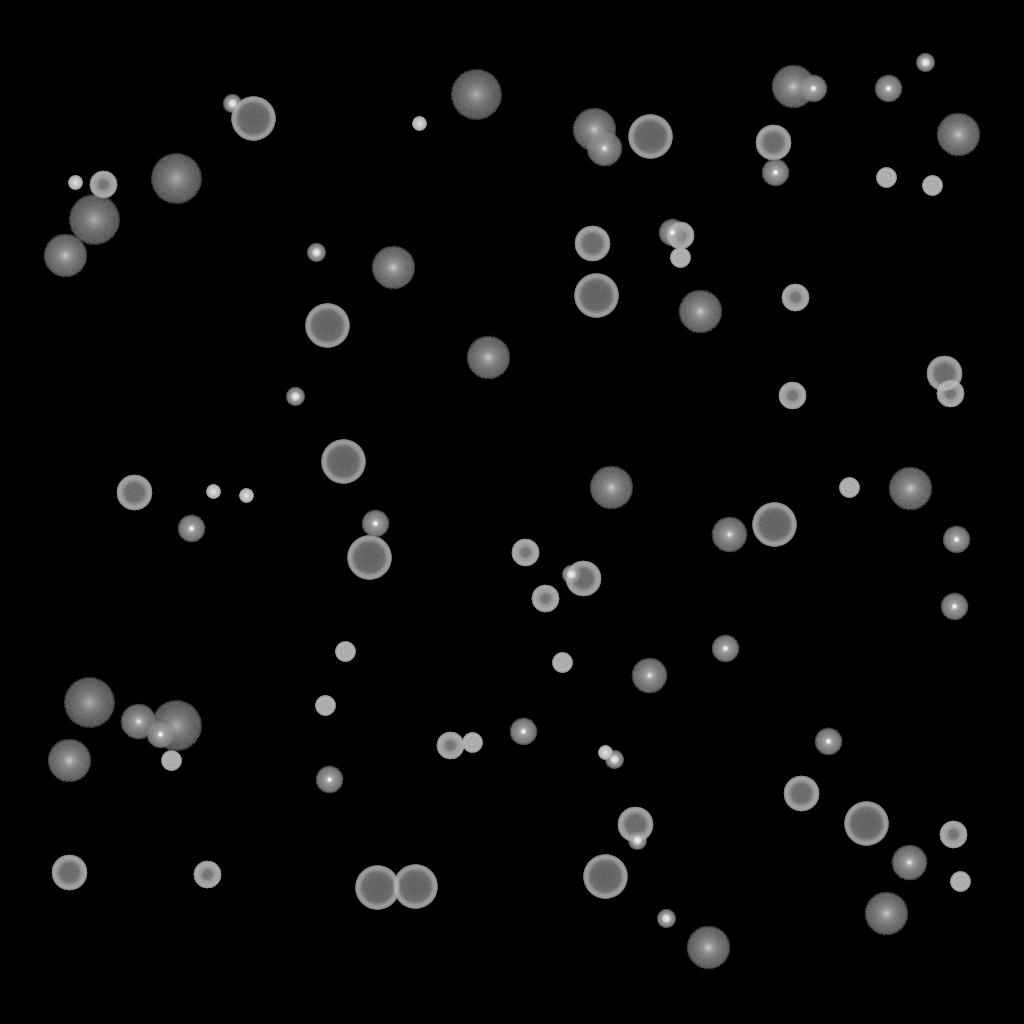depth:-10: (315, 766, 343, 794), (658, 219, 686, 247), (814, 728, 842, 756), (509, 718, 537, 746), (711, 635, 739, 663), (177, 515, 205, 543), (799, 75, 827, 103), (940, 593, 968, 621), (361, 510, 389, 538), (942, 526, 970, 554), (874, 75, 902, 103), (146, 721, 174, 749), (761, 159, 789, 187)
depth:-20: (657, 910, 675, 928), (628, 832, 646, 850), (916, 54, 934, 72), (286, 388, 304, 406), (605, 751, 623, 769), (223, 95, 241, 113), (562, 566, 580, 584), (307, 244, 325, 262)
depth:-30: (206, 485, 220, 499), (68, 176, 82, 190), (239, 489, 253, 503), (412, 117, 426, 131), (598, 746, 612, 760)
depth:-40: (876, 168, 896, 188), (552, 653, 572, 673), (950, 872, 970, 892), (839, 478, 859, 498), (335, 642, 355, 662), (161, 751, 181, 771), (922, 176, 942, 196), (315, 696, 335, 716), (462, 733, 482, 753), (670, 248, 690, 268)
depth:-50: (778, 382, 806, 410), (936, 380, 964, 408), (531, 585, 559, 613), (666, 222, 694, 250), (781, 284, 809, 312), (436, 732, 464, 760), (193, 861, 221, 889), (89, 171, 117, 199), (939, 821, 967, 849), (511, 539, 539, 567)
depth:-60: (574, 226, 610, 262), (926, 356, 962, 392), (116, 475, 152, 511), (617, 807, 653, 843), (755, 125, 791, 161), (51, 855, 87, 891), (565, 561, 601, 597), (783, 776, 819, 812)
depth:-70: (844, 802, 888, 846), (347, 536, 391, 580), (321, 440, 365, 484), (628, 115, 672, 159), (583, 855, 627, 899), (355, 866, 399, 910), (574, 274, 618, 318), (393, 865, 437, 909), (752, 503, 796, 547), (305, 304, 349, 348), (231, 97, 275, 141)
depth:0: (586, 131, 622, 167), (891, 845, 927, 881), (711, 517, 747, 553), (120, 704, 156, 740), (631, 658, 667, 694)
depth:10: (43, 234, 87, 278), (678, 290, 722, 334), (888, 467, 932, 511), (864, 892, 908, 936), (572, 108, 616, 152), (589, 466, 633, 510), (686, 926, 730, 970), (771, 65, 815, 109), (371, 246, 415, 290), (466, 336, 510, 380), (47, 739, 91, 783), (936, 113, 980, 157)
depth:20: (150, 154, 202, 204), (150, 701, 202, 751), (63, 678, 115, 728), (68, 195, 120, 245), (450, 70, 502, 120)
